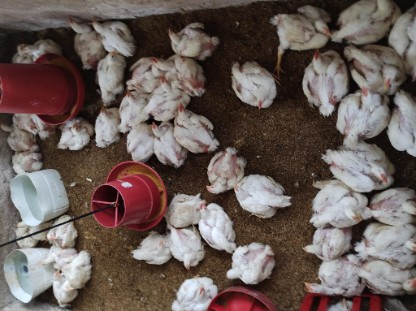Pollos: (329, 144, 398, 186), (333, 0, 394, 45), (273, 6, 327, 49), (338, 85, 381, 139), (302, 48, 341, 107), (232, 172, 285, 213), (351, 48, 399, 90), (362, 227, 415, 265), (228, 239, 273, 282), (165, 22, 219, 57), (170, 107, 213, 150), (232, 60, 273, 105), (199, 203, 237, 251), (90, 17, 136, 55), (303, 266, 360, 295), (315, 189, 363, 223), (370, 188, 414, 225), (208, 144, 241, 193), (95, 47, 126, 98), (131, 230, 175, 262), (58, 251, 89, 296), (302, 226, 347, 255), (365, 264, 414, 290), (172, 228, 203, 267), (179, 275, 213, 309), (149, 122, 176, 159), (57, 118, 90, 148), (122, 88, 145, 131), (93, 105, 116, 146), (169, 200, 205, 226), (13, 39, 56, 60), (49, 216, 73, 248), (145, 52, 183, 72), (66, 18, 90, 45), (154, 76, 176, 99), (16, 151, 37, 172)
